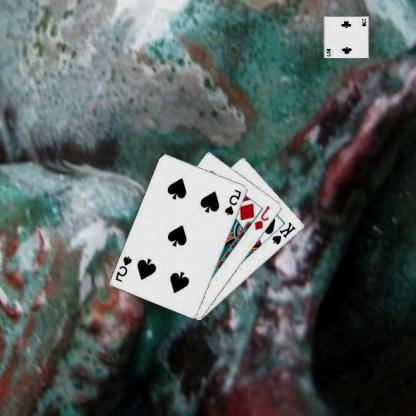5S: (114, 253, 136, 283), (224, 187, 244, 216)
JD: (254, 203, 274, 231)
KS: (271, 219, 299, 246)
